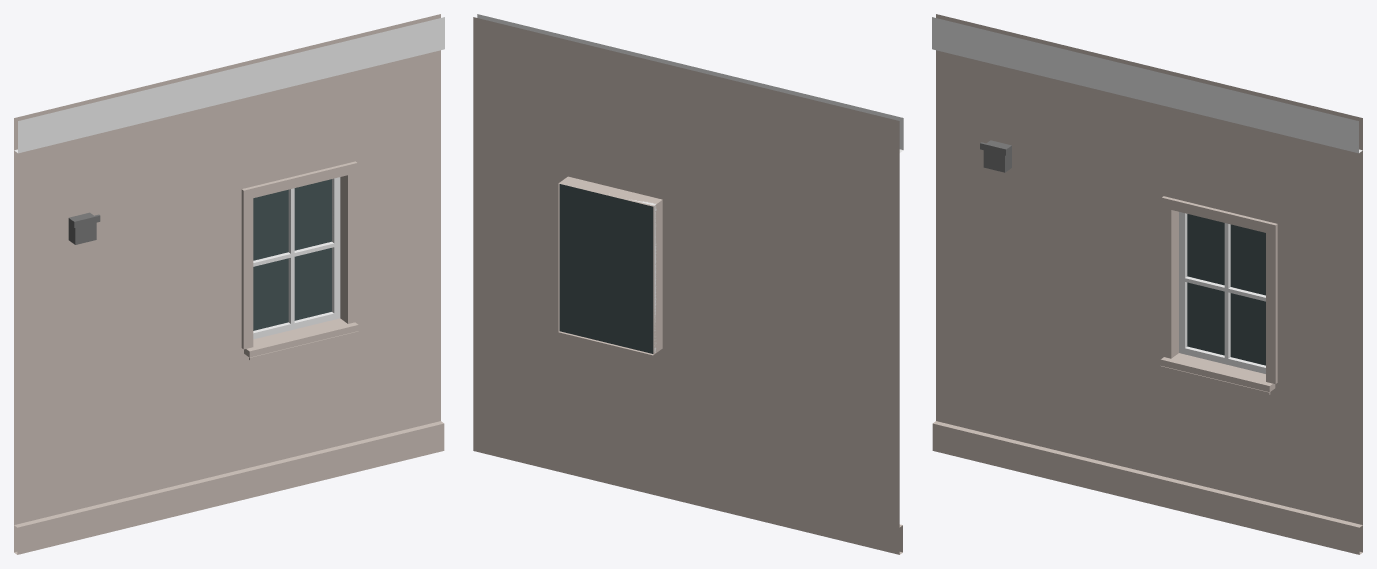
The model's file is top-w2_close.fbx.
3 views of the same model, side by side, from view 1: azimuth 30°, elevation 25°; view 2: azimuth 150°, elevation 25°; view 3: azimuth 330°, elevation 25° (orthographic).
Visible parts, largest first — view 1: a2000s3/400/top-w2_close; view 2: a2000s3/400/top-w2_close; view 3: a2000s3/400/top-w2_close.
Part boxes in pixels (<box>): a2000s3/400/top-w2_close: <box>14,14,444,554</box>; a2000s3/400/top-w2_close: <box>473,14,903,554</box>; a2000s3/400/top-w2_close: <box>932,14,1362,554</box>.
Bounding box in the file's own units: 3.6 × 3.5 × 0.26.
